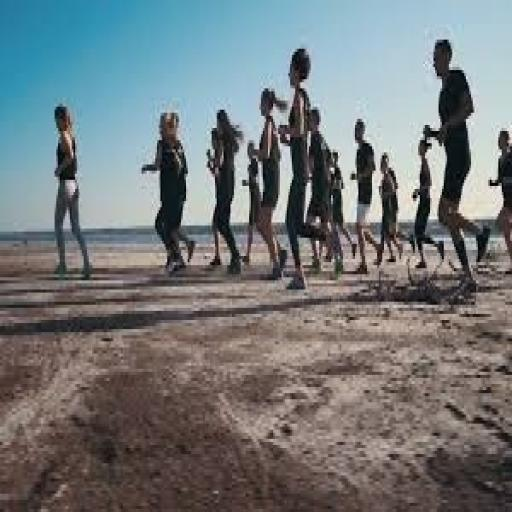running: (420, 34, 491, 302), (140, 107, 196, 280), (49, 98, 94, 284), (203, 104, 246, 280), (348, 113, 382, 277)
